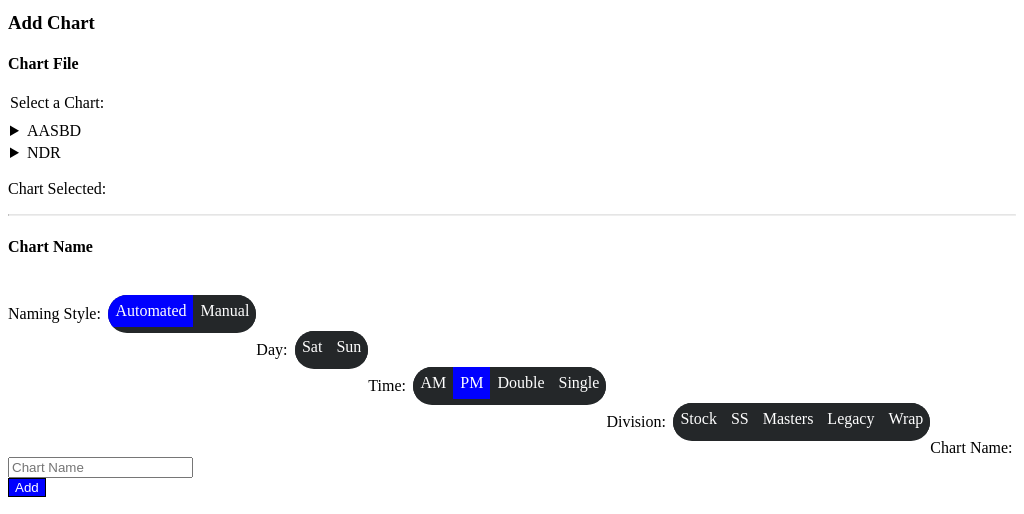
Test: warns when the chart name is already used
The image size is (1024, 514).
Click the radio button labelled "Manual" at (225, 311), box [194,295,256,327]
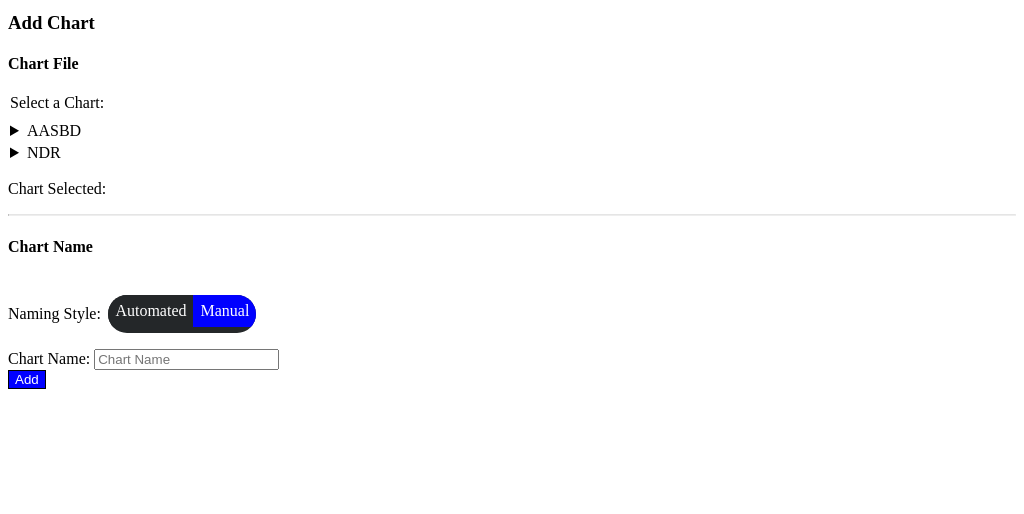
Type "sat am stock" into the field with placeholder "Chart Name" at (187, 359), box [94,349,279,370]
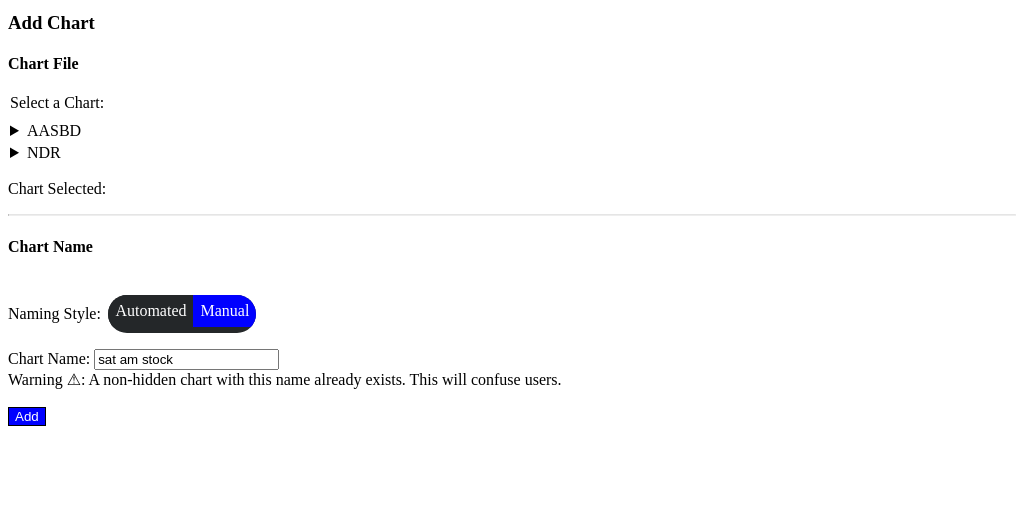
Result: the text "A non-hidden chart with this name already exists" is shown at [8,371,562,388]
